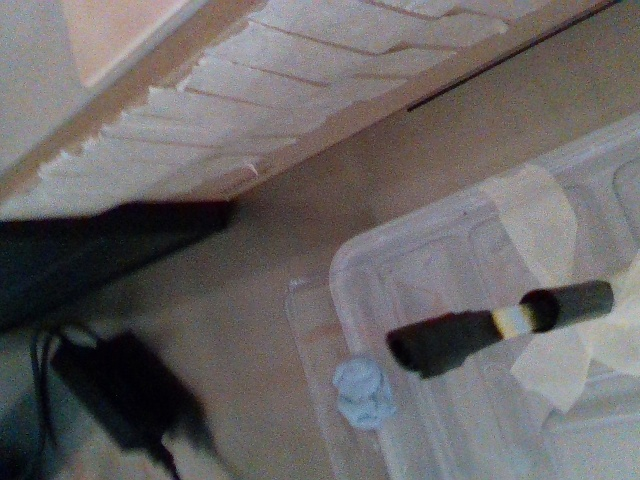test_strip: (385, 302, 534, 379)
